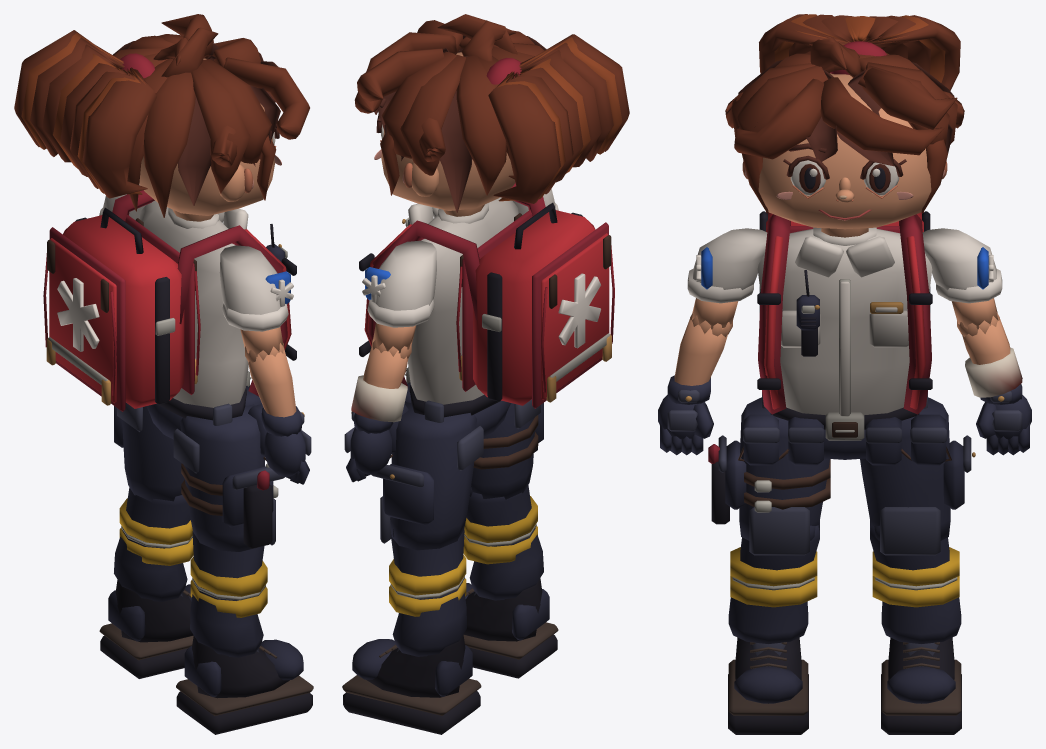
3 views of the same model, side by side, from view 1: azimuth 30°, elevation 25°; view 2: azimuth 150°, elevation 25°; view 3: azimuth 270°, elevation 25° (orthographic).
Parts seen in each view (by area): view 1: head_pal_picketWhite, torso_pal_picketWhite, legR_pal_picketWhite, footR_pal_picketWhite, shinR_pal_picketWhite, shinL_pal_picketWhite, footL_pal_picketWhite, armR_pal_picketWhite, legL_pal_picketWhite, foreArmR_pal_picketWhite, hip_pal_picketWhite, handR_pal_picketWhite; view 2: head_pal_picketWhite, torso_pal_picketWhite, legL_pal_picketWhite, footL_pal_picketWhite, shinL_pal_picketWhite, shinR_pal_picketWhite, footR_pal_picketWhite, armL_pal_picketWhite, legR_pal_picketWhite, foreArmL_pal_picketWhite, hip_pal_picketWhite, handL_pal_picketWhite; view 3: head_pal_picketWhite, torso_pal_picketWhite, legR_pal_picketWhite, hip_pal_picketWhite, legL_pal_picketWhite, shinR_pal_picketWhite, shinL_pal_picketWhite, footL_pal_picketWhite, footR_pal_picketWhite, armL_pal_picketWhite, armR_pal_picketWhite, foreArmL_pal_picketWhite (+3 smaller).
Part boxes in pixels (x1,y1,x2,y2): head_pal_picketWhite: (14, 14, 309, 221); torso_pal_picketWhite: (43, 190, 296, 411); legR_pal_picketWhite: (173, 404, 284, 551); footR_pal_picketWhite: (176, 635, 313, 734); shinR_pal_picketWhite: (190, 531, 267, 657); shinL_pal_picketWhite: (114, 487, 193, 601); footL_pal_picketWhite: (99, 580, 193, 678); armR_pal_picketWhite: (219, 245, 293, 356); legL_pal_picketWhite: (114, 402, 184, 501); foreArmR_pal_picketWhite: (245, 343, 304, 436); hip_pal_picketWhite: (146, 371, 266, 460); handR_pal_picketWhite: (264, 430, 311, 484); head_pal_picketWhite: (354, 14, 629, 216); torso_pal_picketWhite: (359, 183, 614, 408); legL_pal_picketWhite: (371, 401, 483, 550); footL_pal_picketWhite: (342, 634, 481, 734); shinL_pal_picketWhite: (389, 529, 466, 656); shinR_pal_picketWhite: (463, 485, 543, 600); footR_pal_picketWhite: (463, 578, 558, 678); armL_pal_picketWhite: (362, 240, 436, 353); legR_pal_picketWhite: (471, 399, 543, 499); foreArmL_pal_picketWhite: (351, 339, 411, 433); hip_pal_picketWhite: (389, 367, 510, 458); handL_pal_picketWhite: (344, 427, 391, 482); head_pal_picketWhite: (725, 14, 964, 237); torso_pal_picketWhite: (757, 211, 932, 416); legR_pal_picketWhite: (708, 397, 830, 555); hip_pal_picketWhite: (738, 392, 951, 465); legL_pal_picketWhite: (860, 397, 975, 555); shinR_pal_picketWhite: (728, 521, 819, 643); shinL_pal_picketWhite: (870, 521, 961, 643); footL_pal_picketWhite: (881, 637, 961, 734); footR_pal_picketWhite: (728, 637, 808, 734); armL_pal_picketWhite: (922, 228, 1002, 329); armR_pal_picketWhite: (687, 228, 767, 329); foreArmL_pal_picketWhite: (957, 312, 1022, 404).
Size of the model in its own units: 0.4944 by 1.44 by 0.7352.
